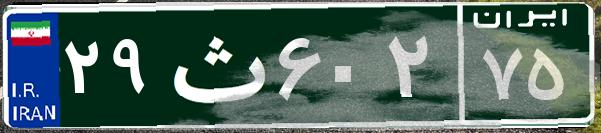0: (330, 28, 385, 110)
2: (385, 28, 445, 110), (57, 26, 110, 107)
5: (525, 38, 570, 115)
6: (273, 28, 330, 110)
7: (475, 38, 525, 113)
9: (110, 28, 158, 105)
ث: (158, 15, 273, 115)
